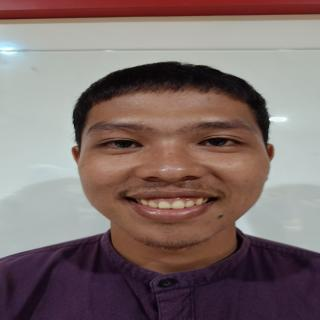Senang: (75, 83, 275, 254)
